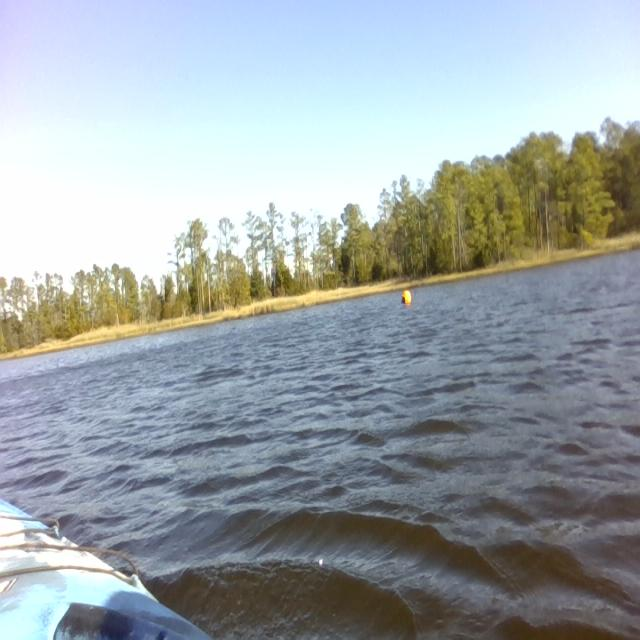Buoy: (396, 282, 416, 317)
